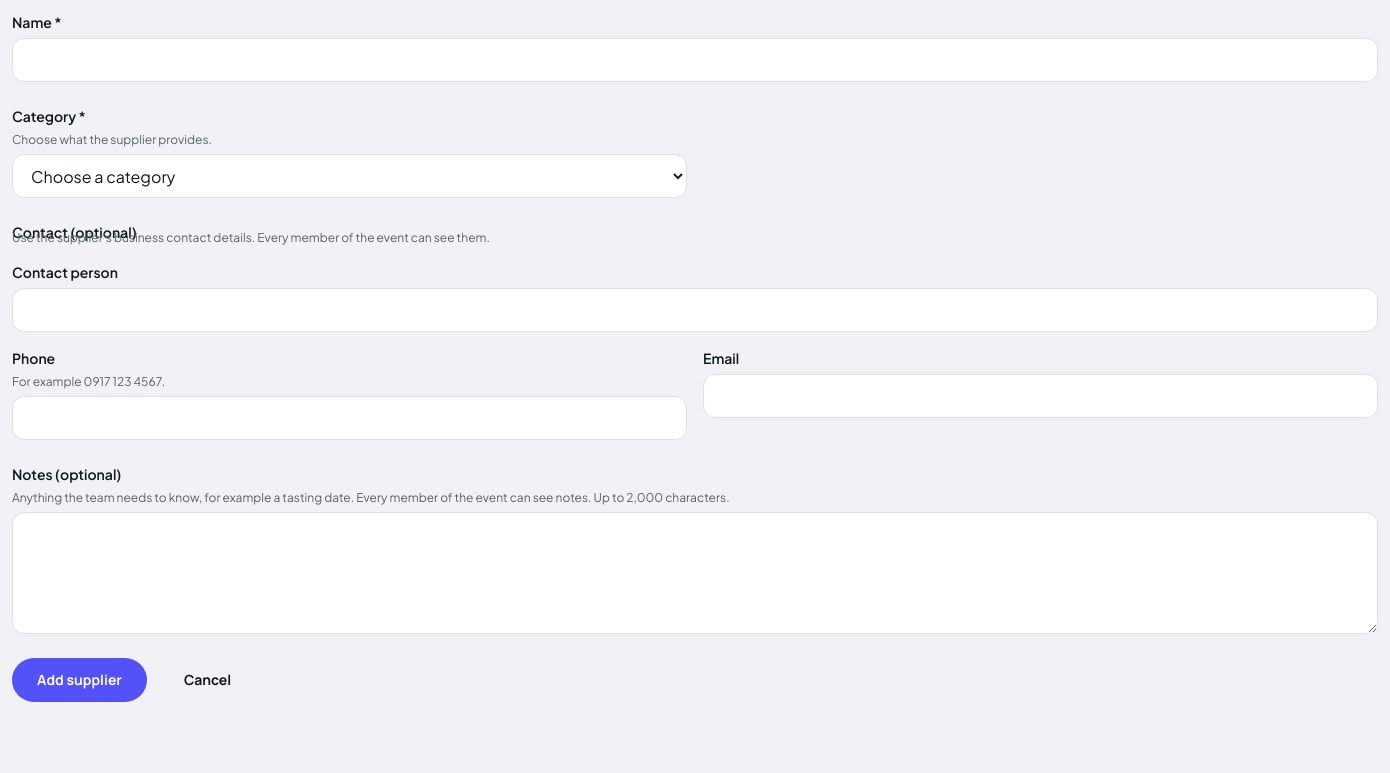
Test: SupplierForm › shows a refusal from the server as a banner
The image size is (1390, 773).
Click the button "Add supplier" at (79, 680), box top-left (12, 658), bottom-right (147, 702)
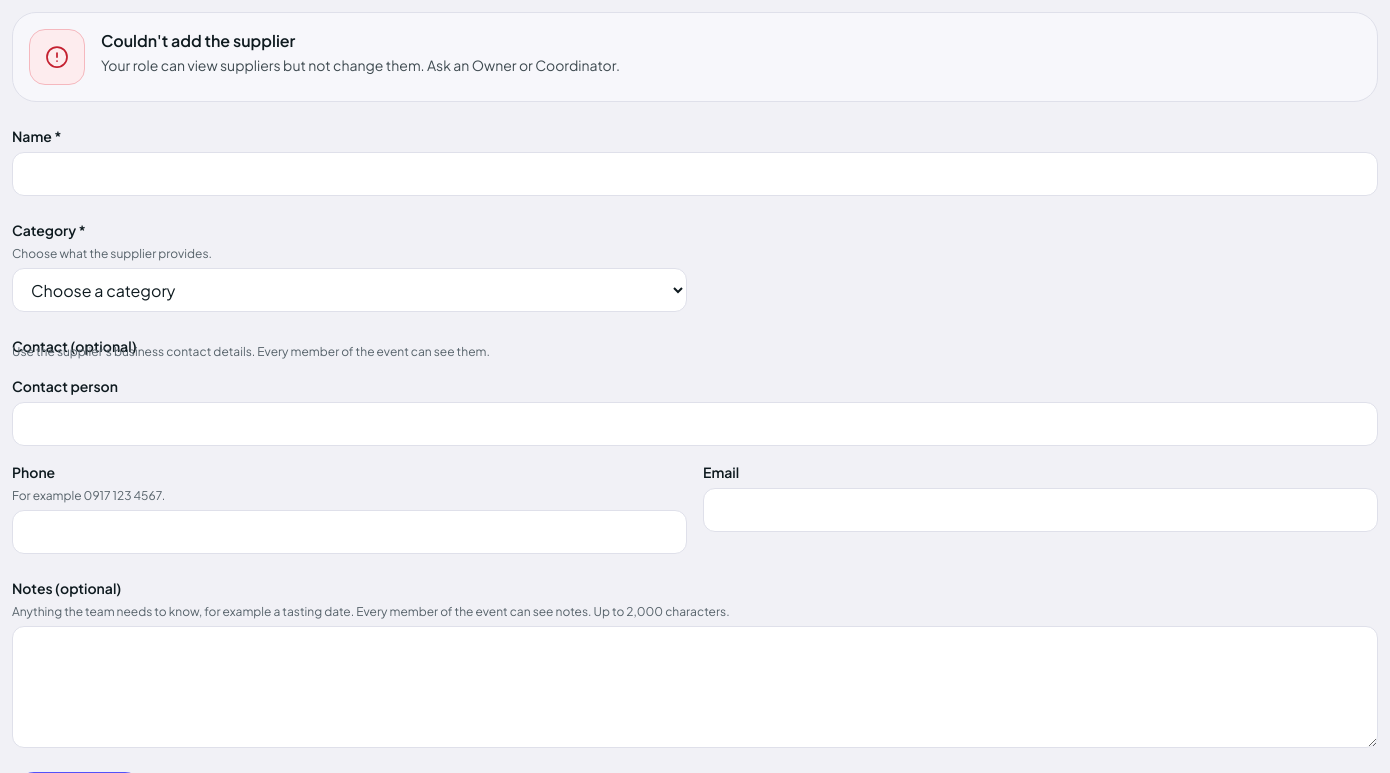
Result: the text "Couldn't add the supplier" is shown at top-left (100, 29), bottom-right (295, 51)
Result: the text "Your role can view suppliers" is shown at top-left (101, 56), bottom-right (620, 74)
